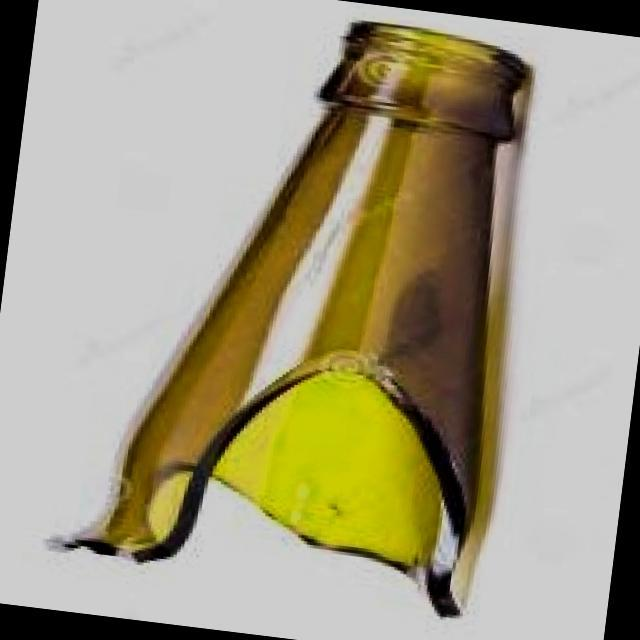Dry Waste: (43, 23, 535, 622)
